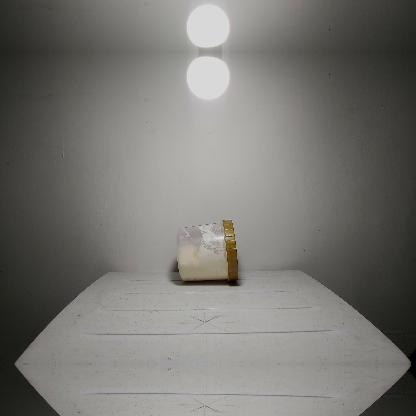Lady-s-Choice: (176, 220, 238, 282)
